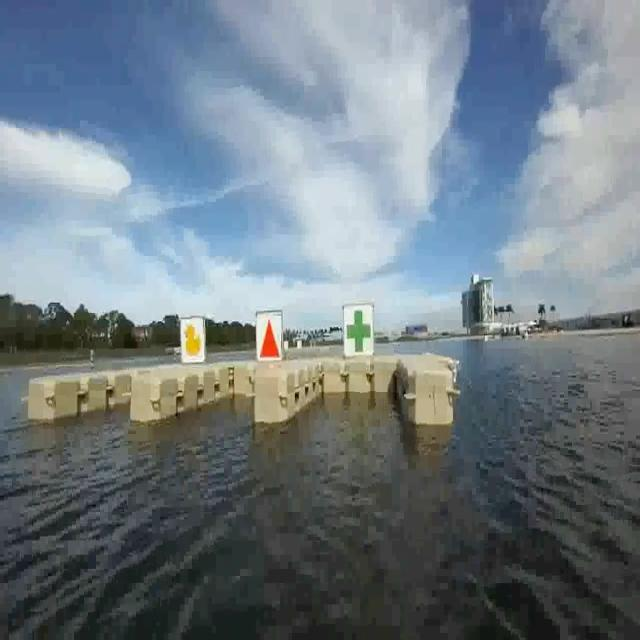blue-cross: (344, 304, 372, 352)
red-dot: (255, 314, 280, 357)
yellow-duck: (184, 323, 201, 356)
